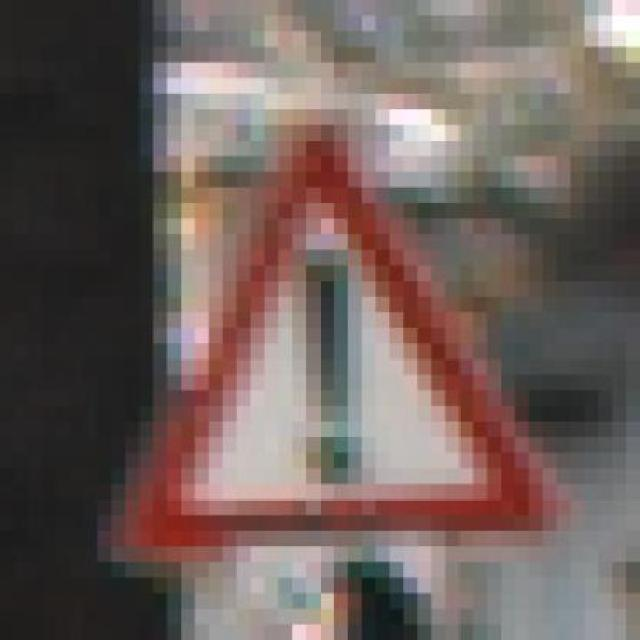Attention Please-: (69, 125, 585, 546)
